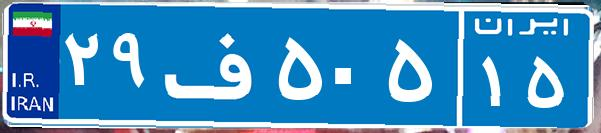0: (330, 28, 385, 110)
1: (475, 38, 525, 113)
2: (57, 26, 110, 107)
5: (385, 28, 445, 110), (273, 28, 330, 110), (525, 38, 570, 115)
9: (110, 28, 158, 105)
ف: (158, 15, 273, 115)
